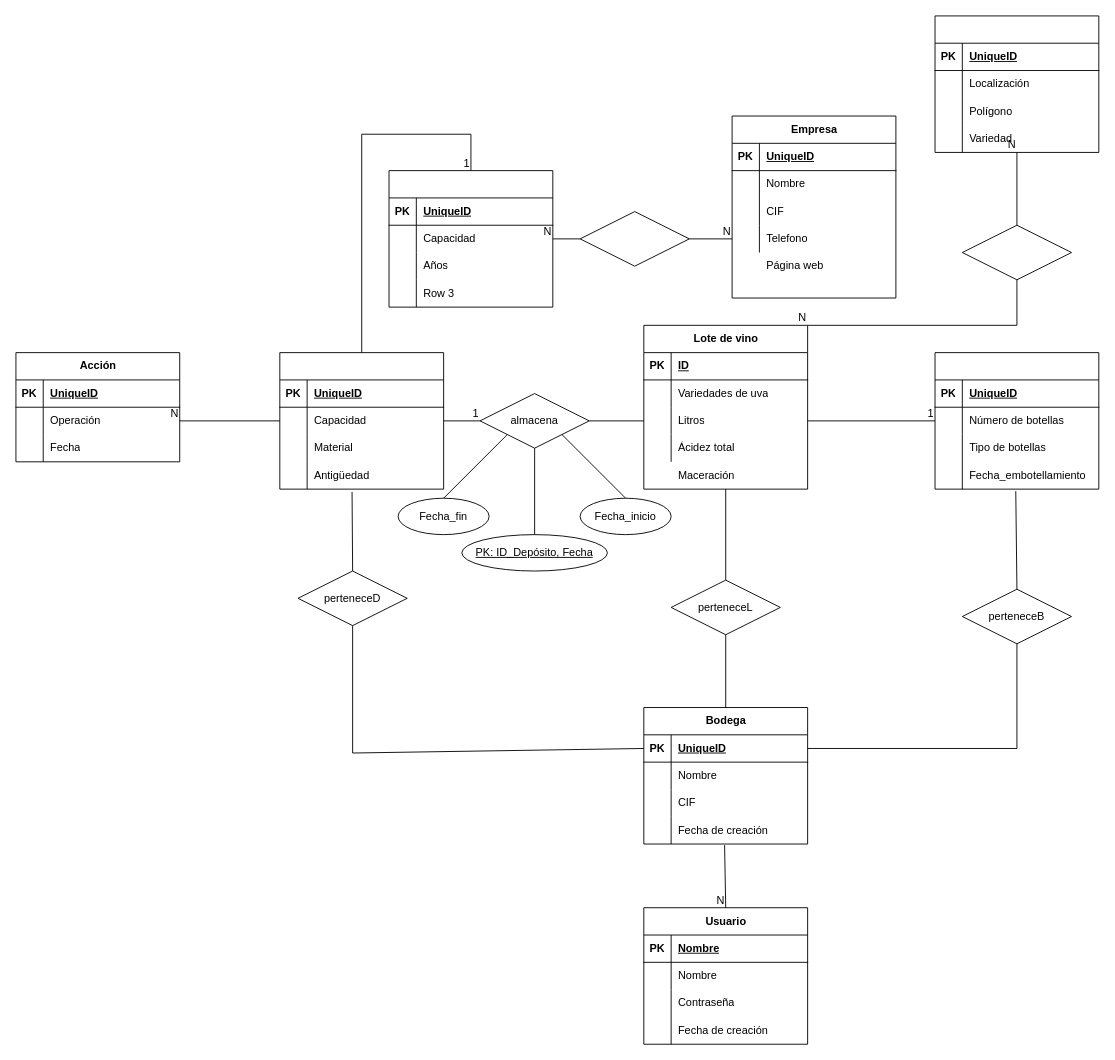
This 1115x1060 diagram has some shape labels left out. The box of each missing label's shape, as (x1, y1, x2, y2) in pixels:
Barrica: (388, 170, 553, 307)
Depósito: (279, 352, 444, 489)
Lote de botellas: (934, 352, 1099, 489)
origen: (961, 224, 1072, 280)
proveedor: (579, 211, 689, 266)
Viña: (934, 15, 1099, 152)
